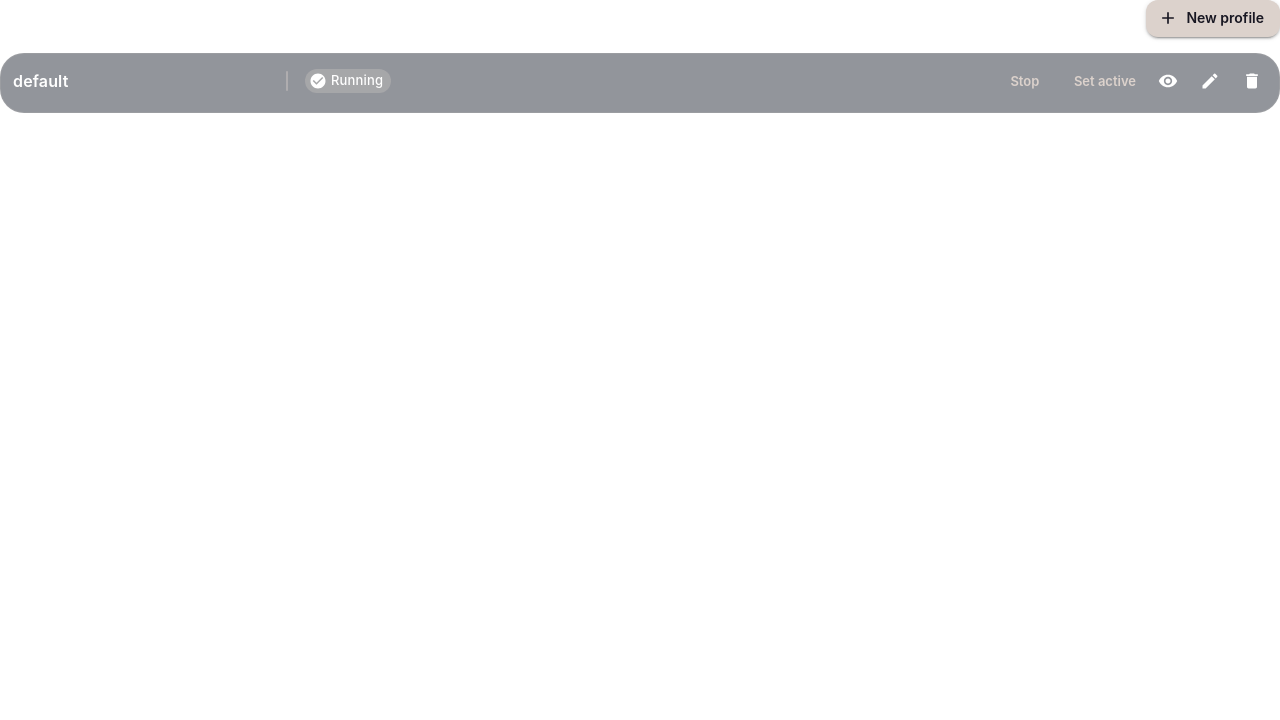
Test case: ProfilesView › locks resource fields while a profile is running
Check: the text "default" is shown, box [13,71,68,91]
Click the button named "Edit default" at (1210, 81), box [1195,66,1225,96]
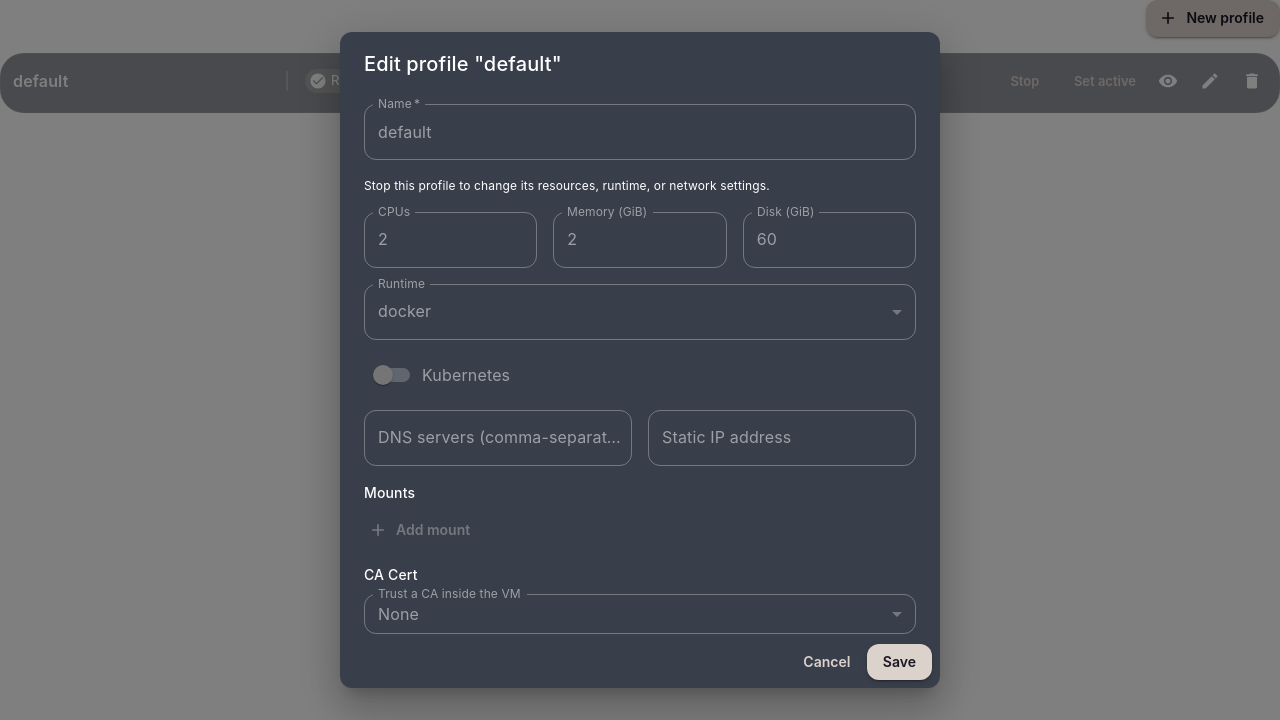
Check: the number field labelled "CPUs" is disabled, box [364,212,537,268]
Check: the number field labelled "Memory (GiB)" is disabled, box [553,212,727,268]
